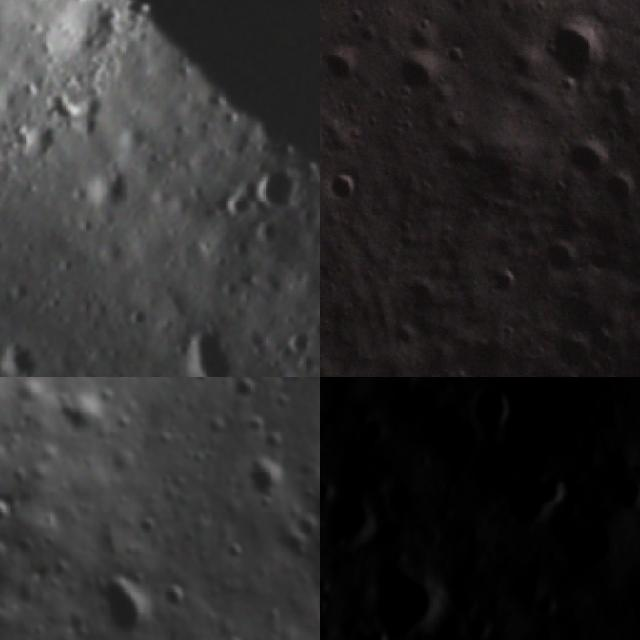crater: (533, 484, 640, 593), (486, 450, 581, 548), (350, 551, 451, 640), (545, 8, 617, 95), (90, 558, 159, 640), (459, 377, 528, 452), (169, 312, 246, 377), (81, 162, 143, 222), (248, 162, 308, 223), (236, 449, 296, 510), (320, 486, 376, 551), (52, 388, 111, 445), (558, 125, 614, 181), (388, 48, 443, 103), (0, 331, 52, 377), (320, 41, 364, 90), (320, 167, 369, 210), (214, 186, 260, 228), (607, 469, 640, 524), (246, 213, 289, 255), (484, 255, 524, 299), (381, 377, 436, 406), (158, 576, 195, 618), (601, 168, 640, 207), (280, 326, 316, 366), (442, 37, 478, 74), (457, 606, 495, 640), (255, 362, 320, 377), (534, 590, 564, 622), (370, 488, 400, 518), (0, 494, 22, 532), (575, 377, 624, 394), (410, 450, 434, 476), (0, 534, 16, 572), (320, 570, 338, 603), (320, 475, 336, 507), (213, 627, 252, 640), (146, 366, 186, 377), (320, 594, 332, 623)
